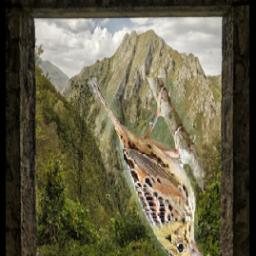Sparrow: (86, 79, 204, 256)
